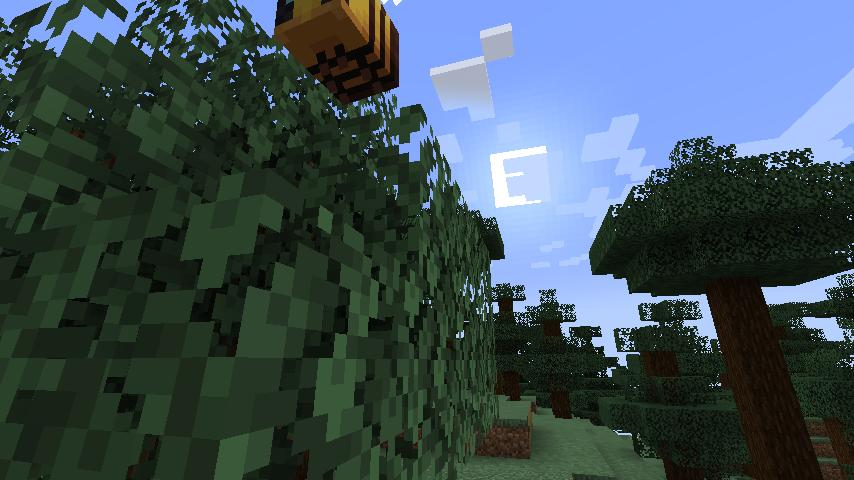bee: (271, 0, 404, 110)
